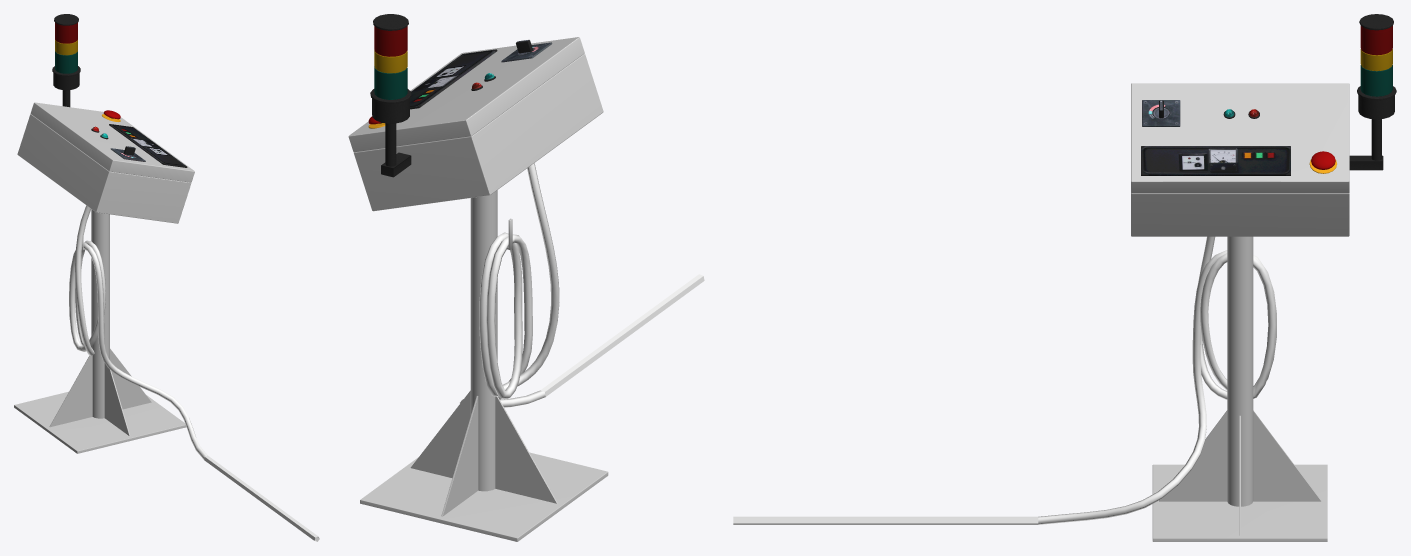
File: Controller_2.glb
3 views of the same model, side by side, from view 1: azimuth 30°, elevation 25°; view 2: azimuth 150°, elevation 25°; view 3: azimuth 270°, elevation 25° (orthographic). The views are drawn at different scales.
Parts seen in each view (by area): view 1: Steel, Code_1, Parts, Lamp, Code_2; view 2: Steel, Code_1, Parts, Lamp, Code_2; view 3: Steel, Parts, Code_1, Code_2, Lamp.
Part boxes in pixels (left/top/right/bottom): Steel: left=14, top=102, right=194, bottom=453; Code_1: left=69, top=205, right=207, bottom=459; Parts: left=52, top=14, right=187, bottom=167; Lamp: left=55, top=22, right=77, bottom=73; Code_2: left=204, top=455, right=319, bottom=541; Steel: left=348, top=37, right=608, bottom=541; Code_1: left=460, top=163, right=559, bottom=407; Parts: left=368, top=14, right=552, bottom=177; Lamp: left=374, top=26, right=407, bottom=99; Code_2: left=540, top=274, right=704, bottom=396; Steel: left=1131, top=83, right=1349, bottom=541; Parts: left=1141, top=14, right=1396, bottom=175; Code_1: left=1038, top=236, right=1276, bottom=524; Code_2: left=733, top=516, right=1038, bottom=524; Lamp: left=1360, top=26, right=1392, bottom=96.
Bounding box in the file's own units: 0.4031 × 1.25 × 1.52.
4 materials, 2 textured.
